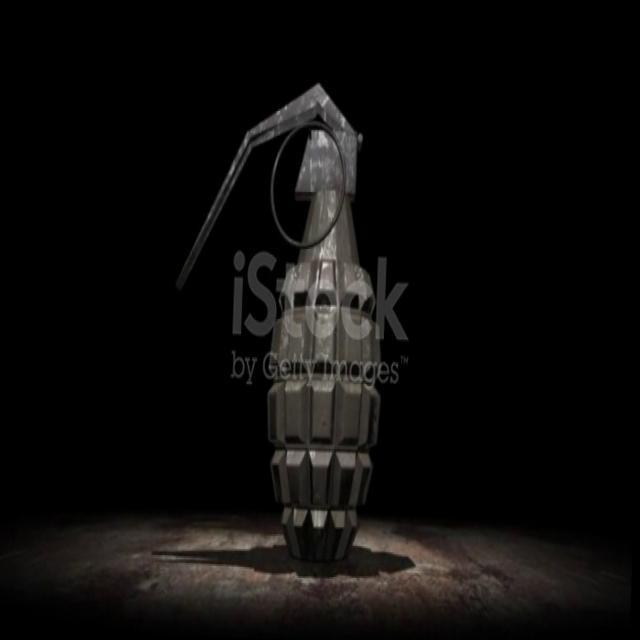grenade: (170, 81, 396, 572)
